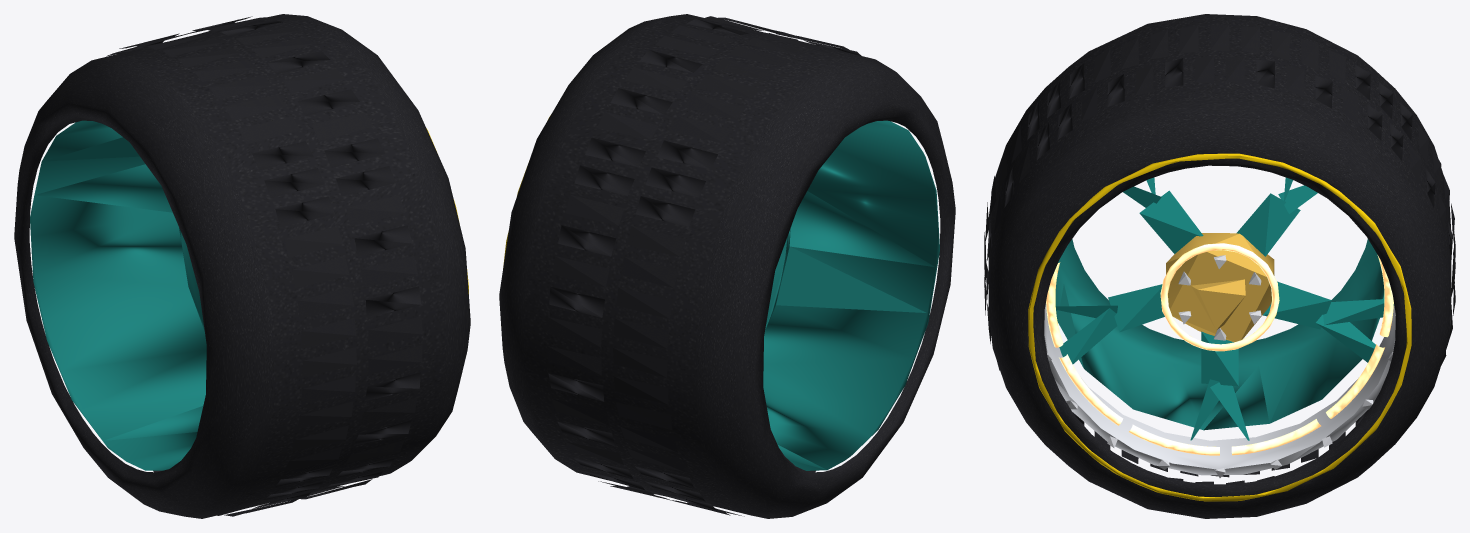
Rendered from tyre-starsplit-lp.glb.
3 views of the same model, side by side, from view 1: azimuth 30°, elevation 25°; view 2: azimuth 150°, elevation 25°; view 3: azimuth 270°, elevation 25° (orthographic). The views are drawn at different scales.
Visible parts, largest first — view 1: Tyre_Rubber, Rim; view 2: Tyre_Rubber, Rim; view 3: Tyre_Rubber, Rim, Rim_Spokes, Rim_Lip, Hub, Tyre_Stripe, LED_Ring, Chrome, LED_Seg_1, LED_Seg_10, LED_Seg_9, LED_Seg_2 (+2 smaller).
Boxes of the visible parts, left/top/right/bottom form: Tyre_Rubber: left=14, top=14, right=470, bottom=518; Rim: left=30, top=120, right=206, bottom=470; Tyre_Rubber: left=499, top=14, right=955, bottom=518; Rim: left=763, top=120, right=939, bottom=470; Tyre_Rubber: left=984, top=14, right=1455, bottom=518; Rim: left=1055, top=239, right=1384, bottom=430; Rim_Spokes: left=1055, top=177, right=1394, bottom=440; Rim_Lip: left=1044, top=303, right=1395, bottom=475; Hub: left=1166, top=233, right=1274, bottom=342; Tyre_Stripe: left=1028, top=153, right=1411, bottom=501; LED_Ring: left=1160, top=243, right=1279, bottom=351; Chrome: left=1047, top=255, right=1392, bottom=477; LED_Seg_1: left=1129, top=424, right=1219, bottom=455; LED_Seg_10: left=1231, top=419, right=1320, bottom=455; LED_Seg_9: left=1326, top=344, right=1384, bottom=418; LED_Seg_2: left=1059, top=354, right=1123, bottom=425.
Size of the model in its own units: 0.1722 by 0.2787 by 0.2787.
18 materials, 1 textured.
